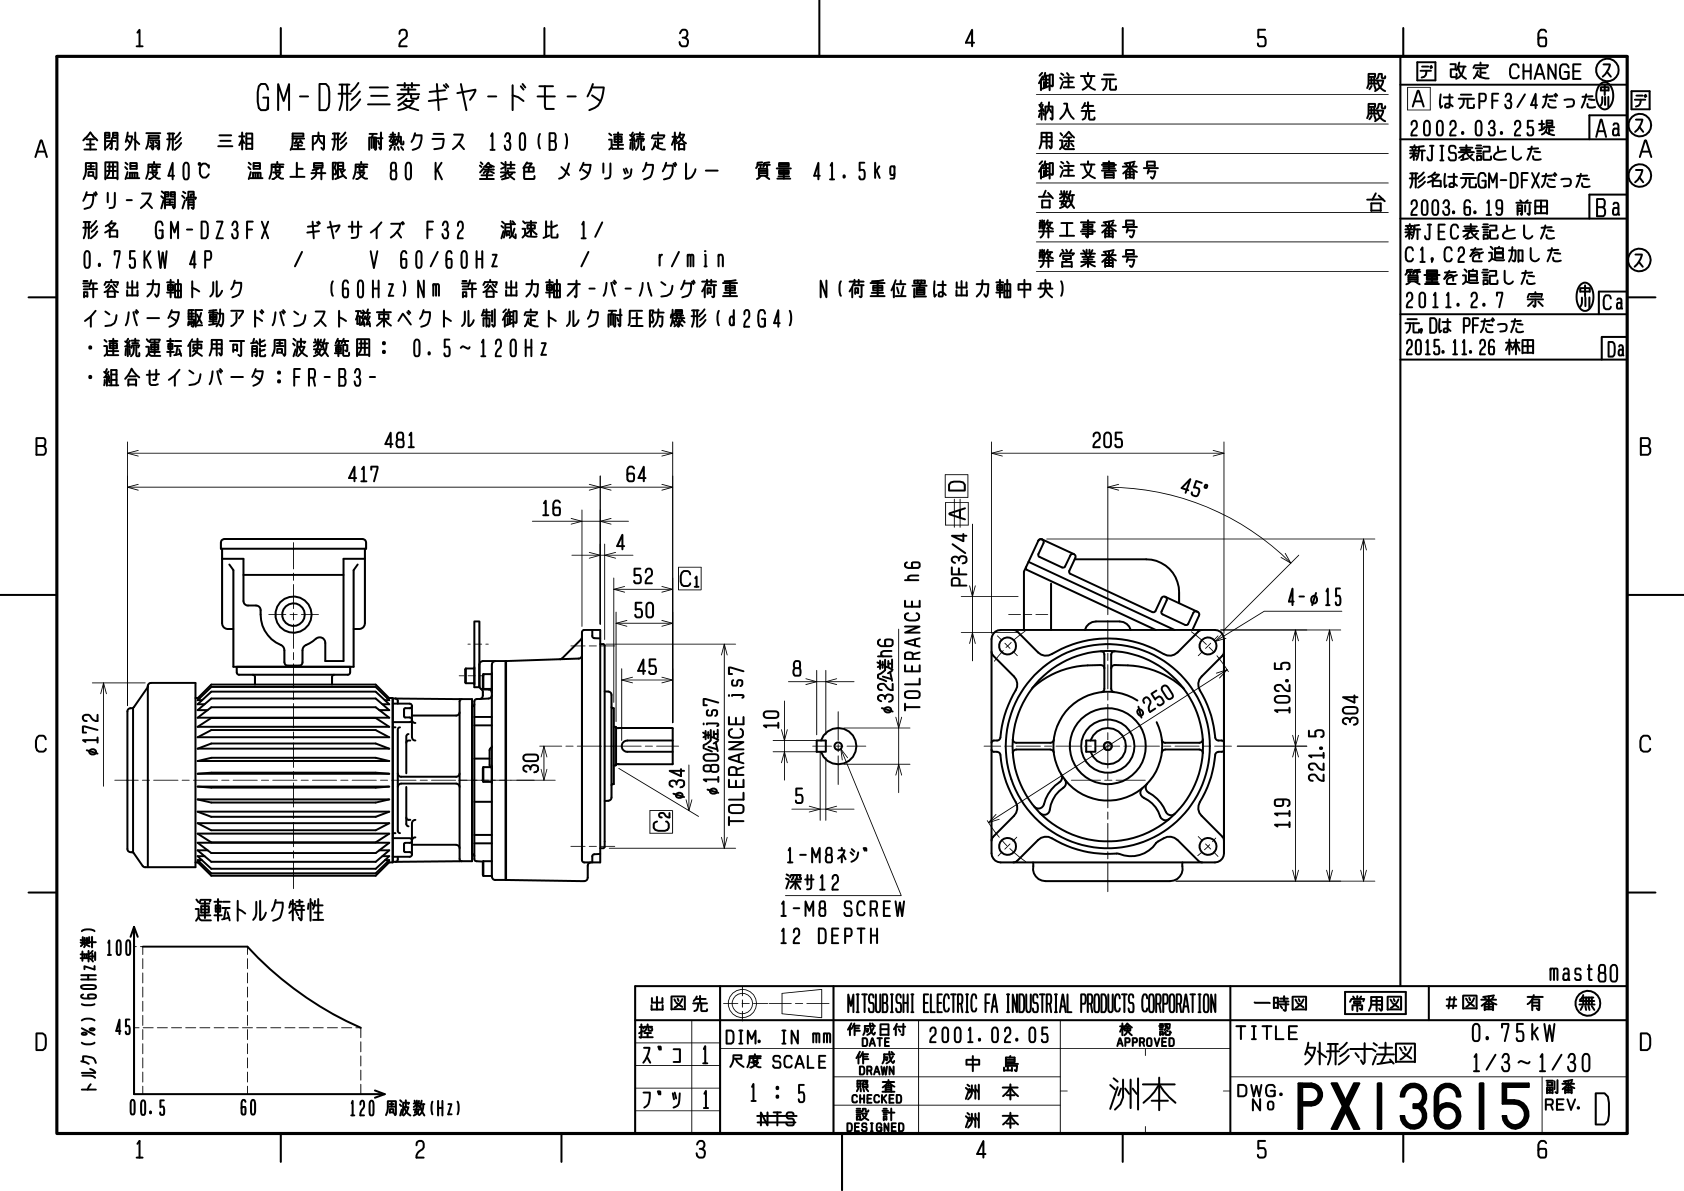GM_D_制御屋内_三相_フランジ: (71, 402, 1386, 967)
